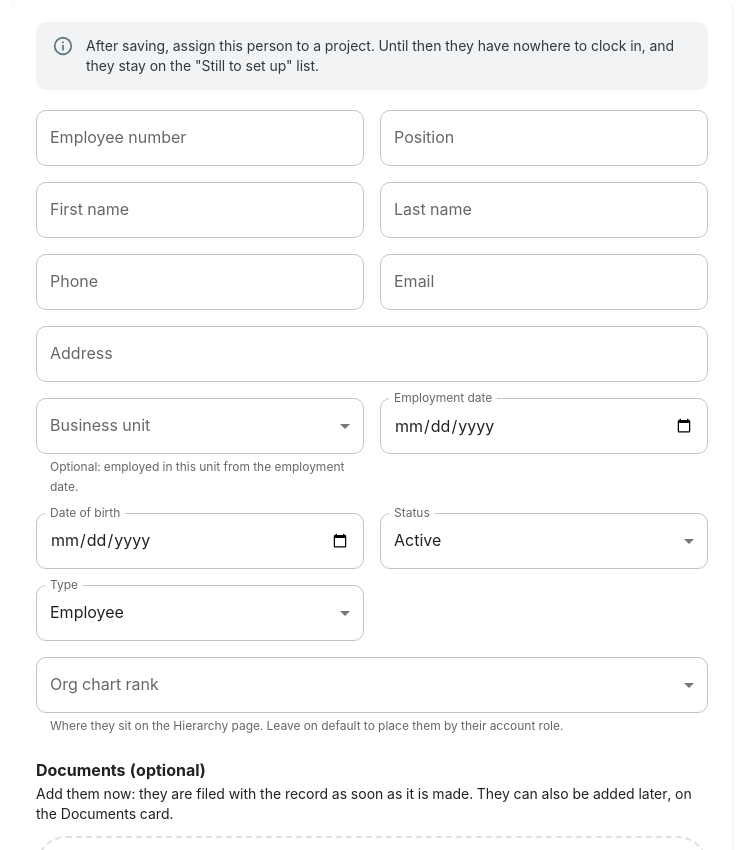
Test case: EmployeeFormPage › shows a conflict in the banner, since the API sends no field for it
Type "EMP-001" into the field labelled "Employee number".
click(200, 138); type("EMP-001")  # box [36, 110, 364, 166]
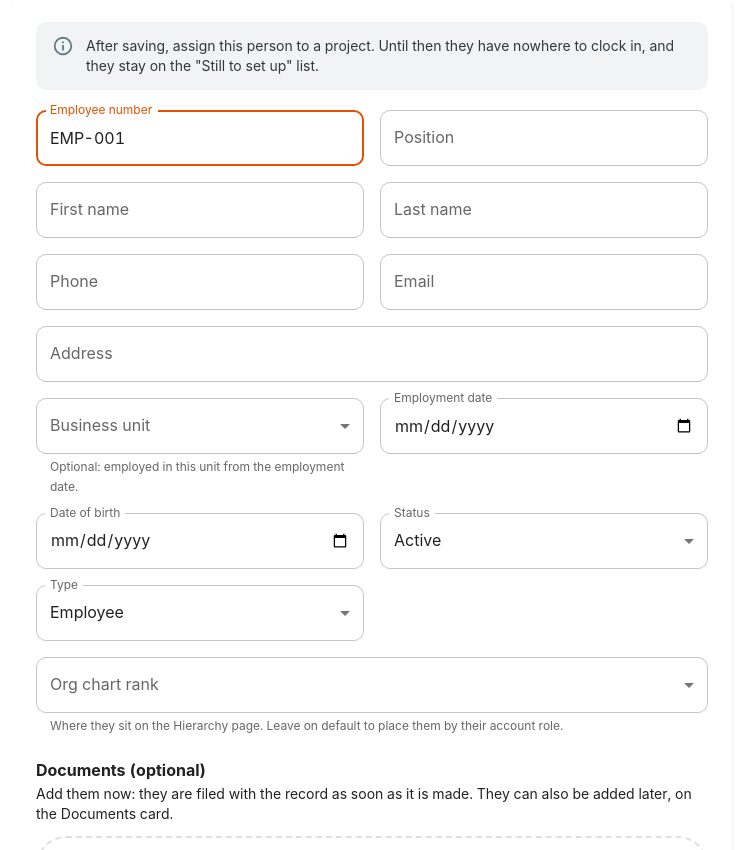
Type "Zidar" into the field labelled "Position".
click(544, 138); type("Zidar")  # box [380, 110, 708, 166]
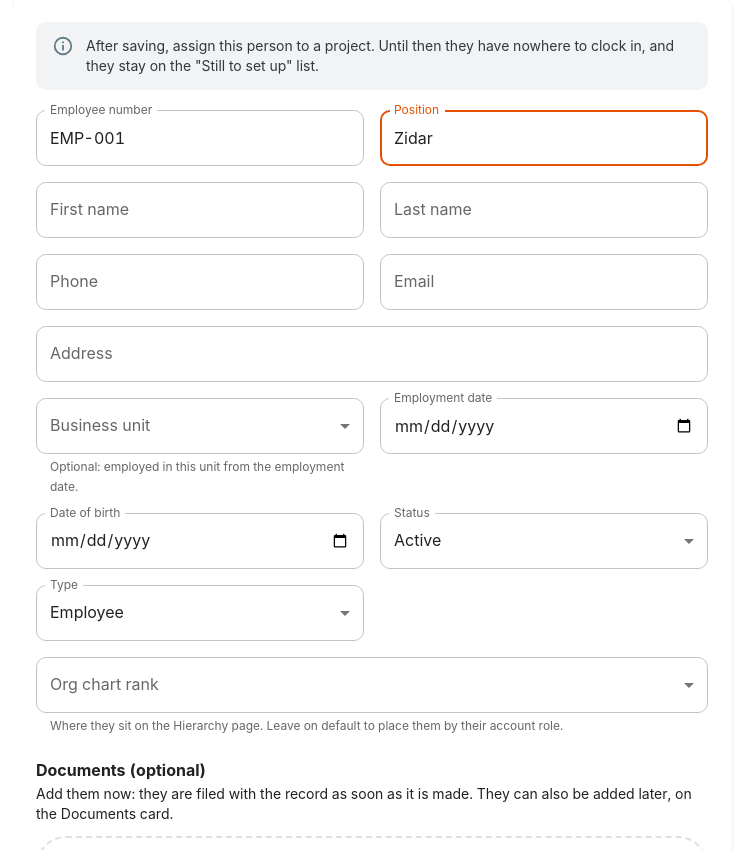
Type "Ivan" into the field labelled "First name".
click(200, 210); type("Ivan")  # box [36, 182, 364, 238]
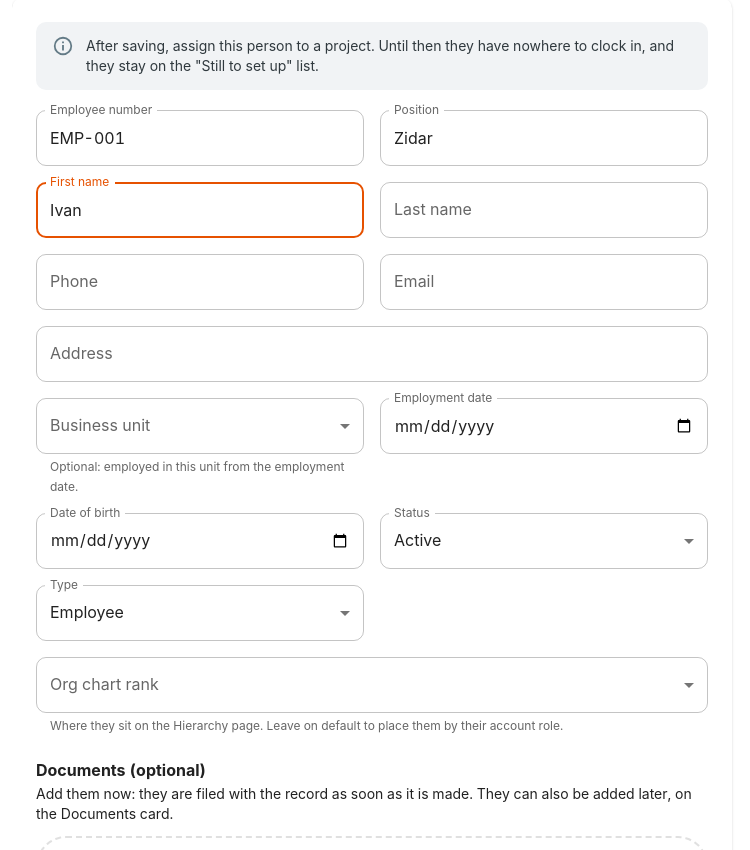
Type "Horvat" into the field labelled "Last name".
click(544, 210); type("Horvat")  # box [380, 182, 708, 238]
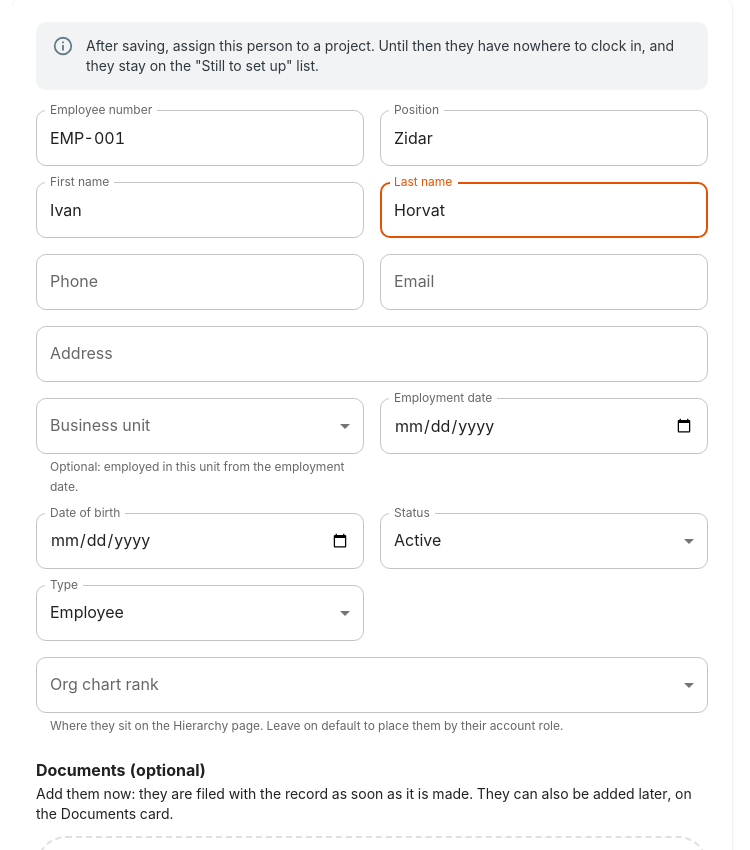
Type "2024-01-15" into the date field labelled "Employment date".
click(544, 426); type("2024-01-15")  # box [380, 398, 708, 454]
(page scrolled)
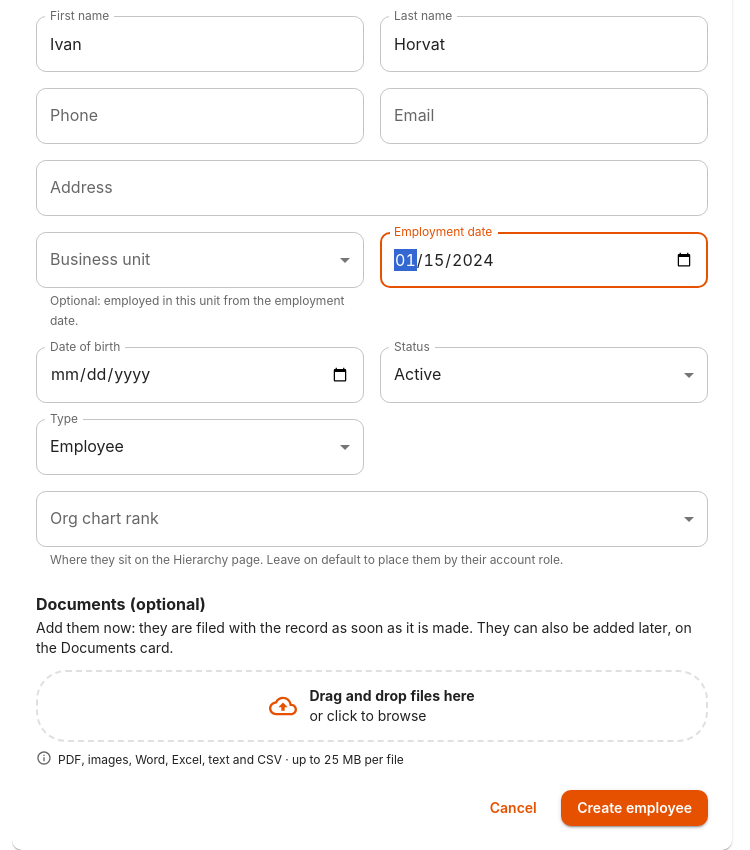
Click the button "Create employee".
click(635, 808)  # box [561, 790, 708, 826]
(page scrolled)
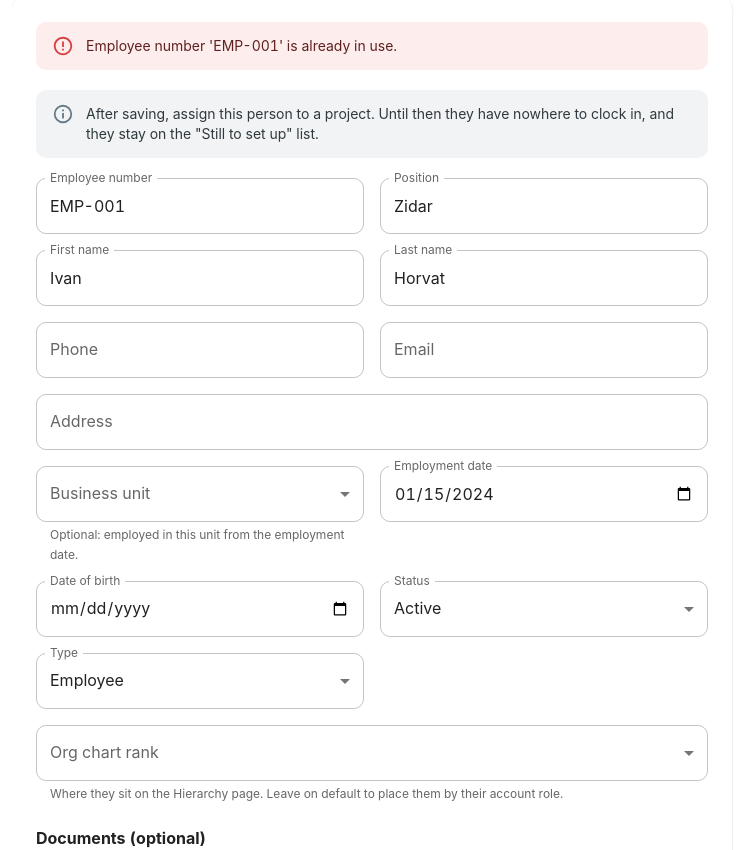
expect the text "Employee number 'EMP-001' is already in use." is shown: met, box [86, 37, 397, 54]
